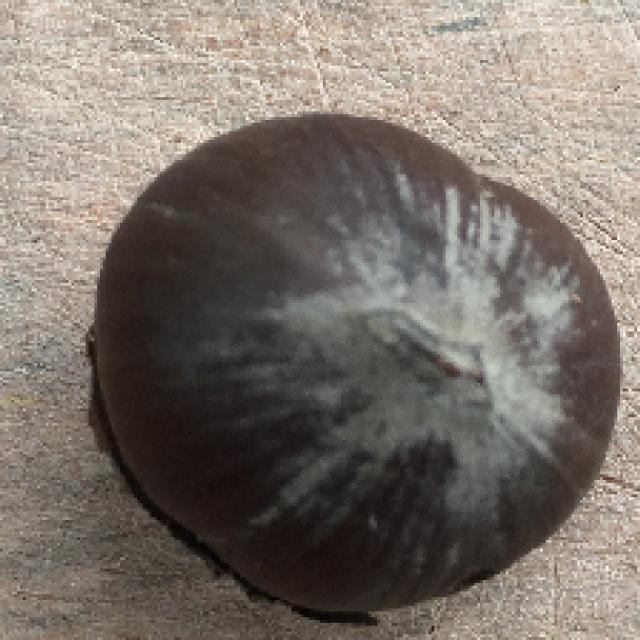damagedHazelnut: (80, 107, 640, 628)
